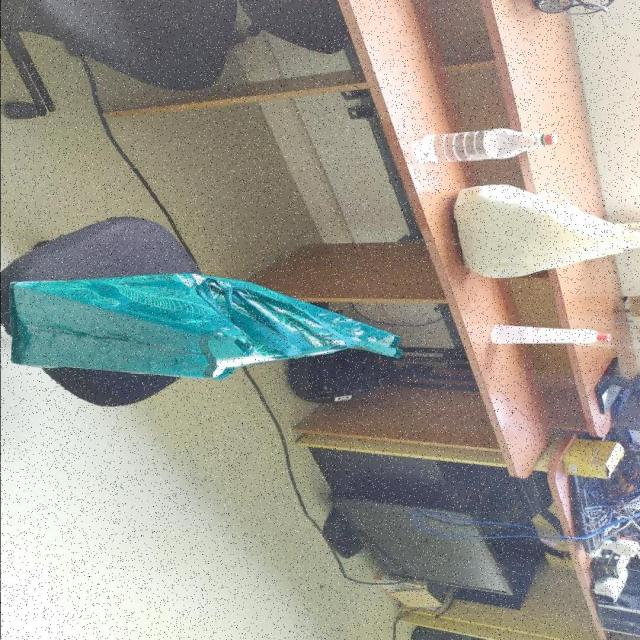Bag: (8, 275, 406, 381), (443, 182, 640, 278)
